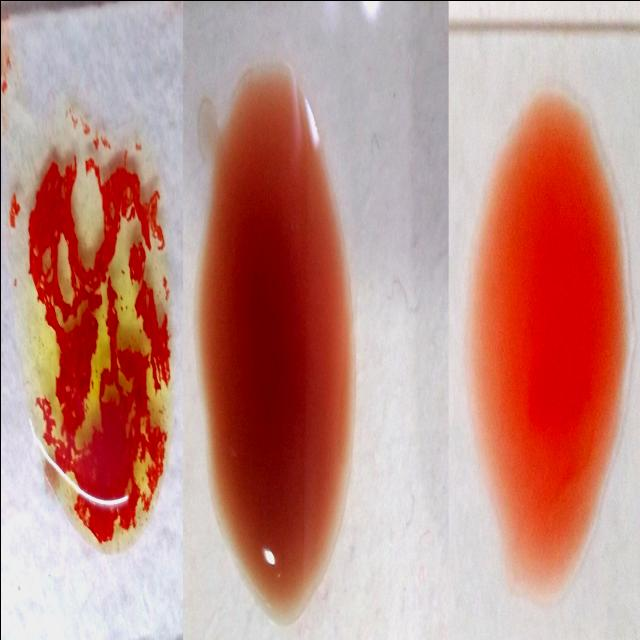B: (15, 104, 168, 552)
